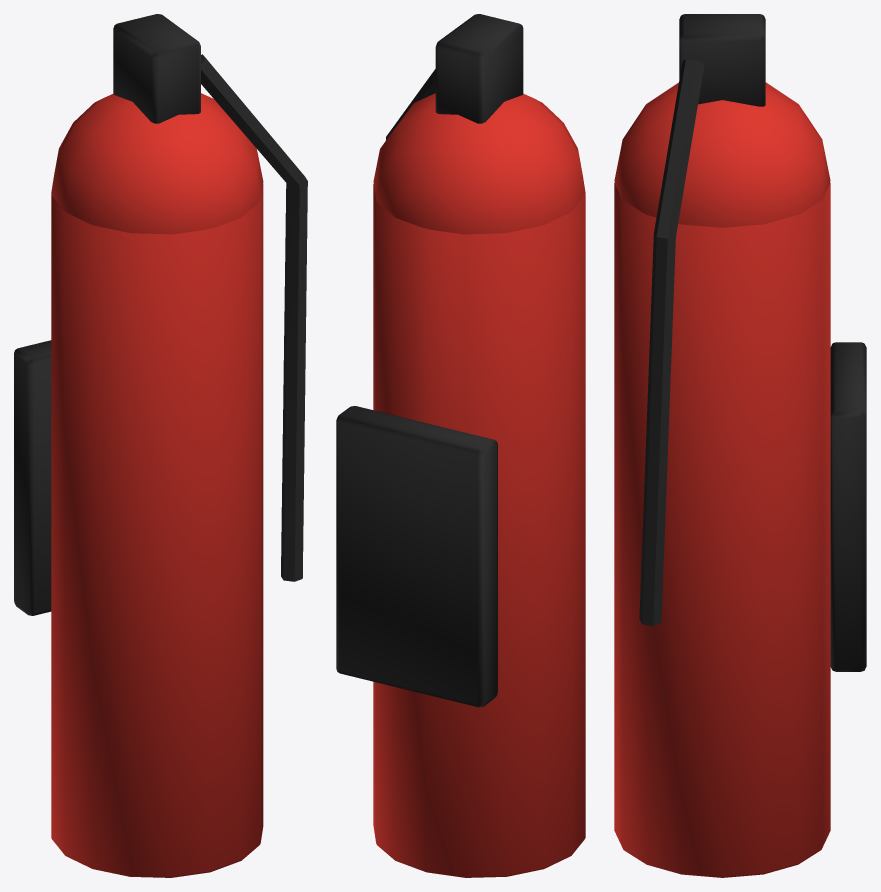
Rendered from fire_extinguisher.glb.
3 views of the same model, side by side, from view 1: azimuth 30°, elevation 25°; view 2: azimuth 150°, elevation 25°; view 3: azimuth 270°, elevation 25° (orthographic).
Parts seen in each view (by area): view 1: Extinguisher red, Black plastic; view 2: Extinguisher red, Black plastic; view 3: Extinguisher red, Black plastic.
Boxes of the visible parts, x1,y1,x2,y2 form: Extinguisher red: [51, 93, 263, 877]; Black plastic: [14, 14, 307, 615]; Extinguisher red: [373, 93, 585, 877]; Black plastic: [336, 14, 523, 707]; Extinguisher red: [614, 82, 830, 877]; Black plastic: [639, 14, 866, 671].
Size of the model in its own units: 0.1727 by 0.62 by 0.175.
